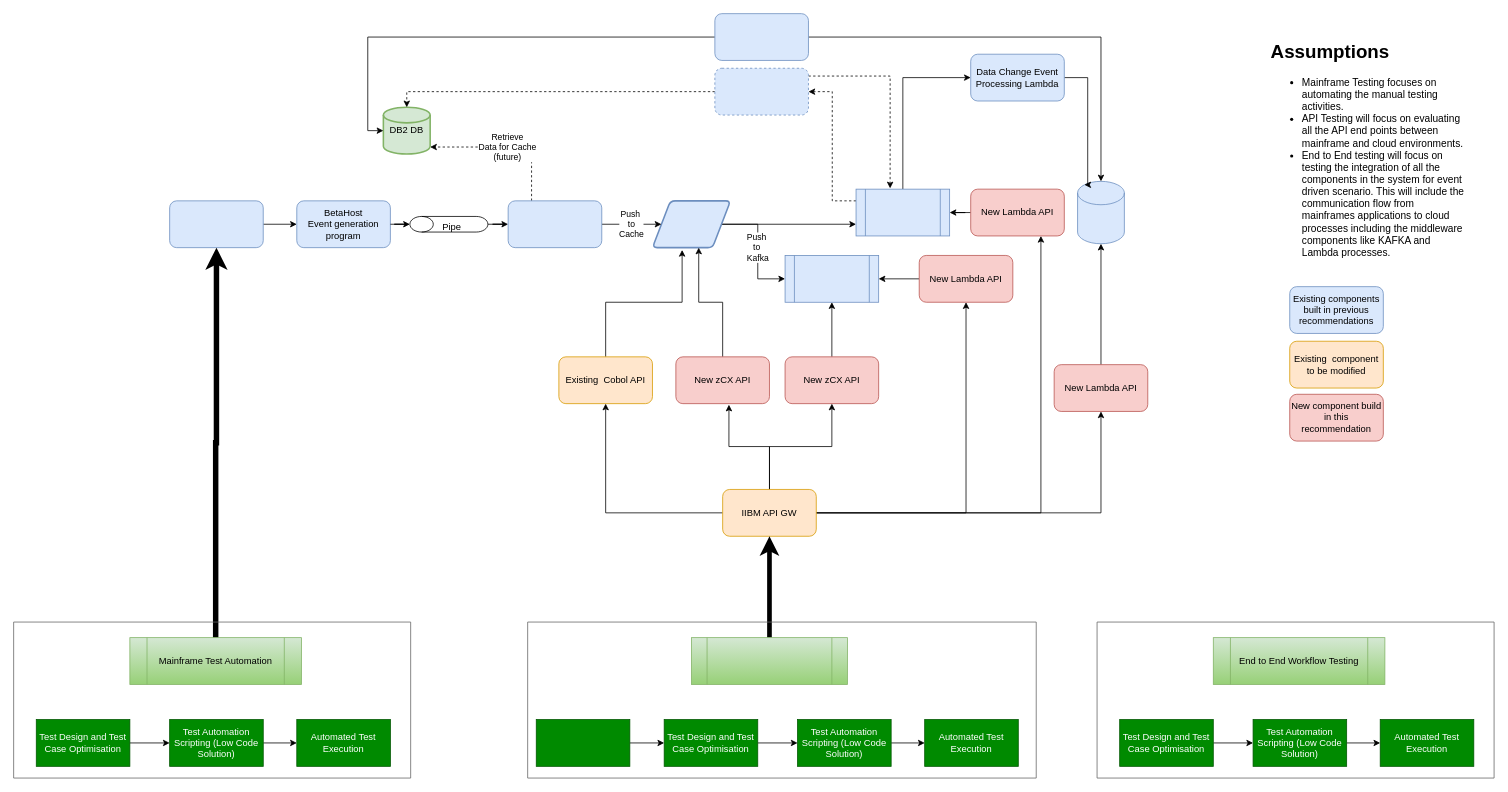
The diagram is 1508 pixels wide and 792 high, and some of its shapes have lost their labels. The shapes that lost their labels are listed below. From the top down, each one's centre as x and y in pixels, then its label:
At point (761, 36): "Initial Load".
At point (761, 91): "Event Enricher".
At point (216, 224): "BetaHost Application".
At point (554, 224): "Cach Loader Java".
At point (691, 224): "zDIH Cache".
At point (902, 212): "AWS Kafka".
At point (1100, 212): "CQRS DB".
At point (831, 278): "Z Kafka".
At point (769, 660): "API Test Automation".
At point (582, 742): "API Specification Parsing".
